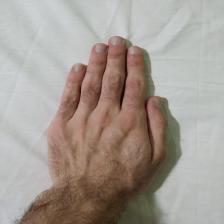five: (44, 34, 170, 190)
